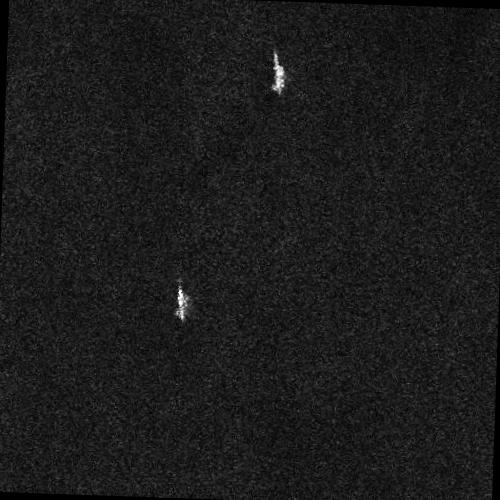ship: (272, 47, 287, 96), (176, 279, 188, 323)
